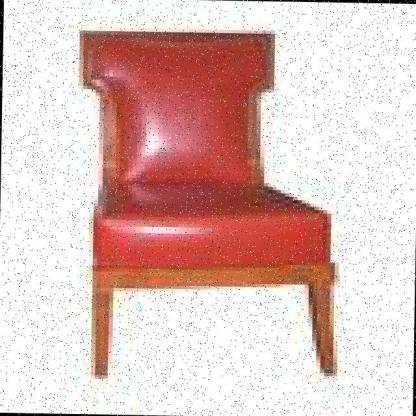Chair: (43, 16, 370, 395)
